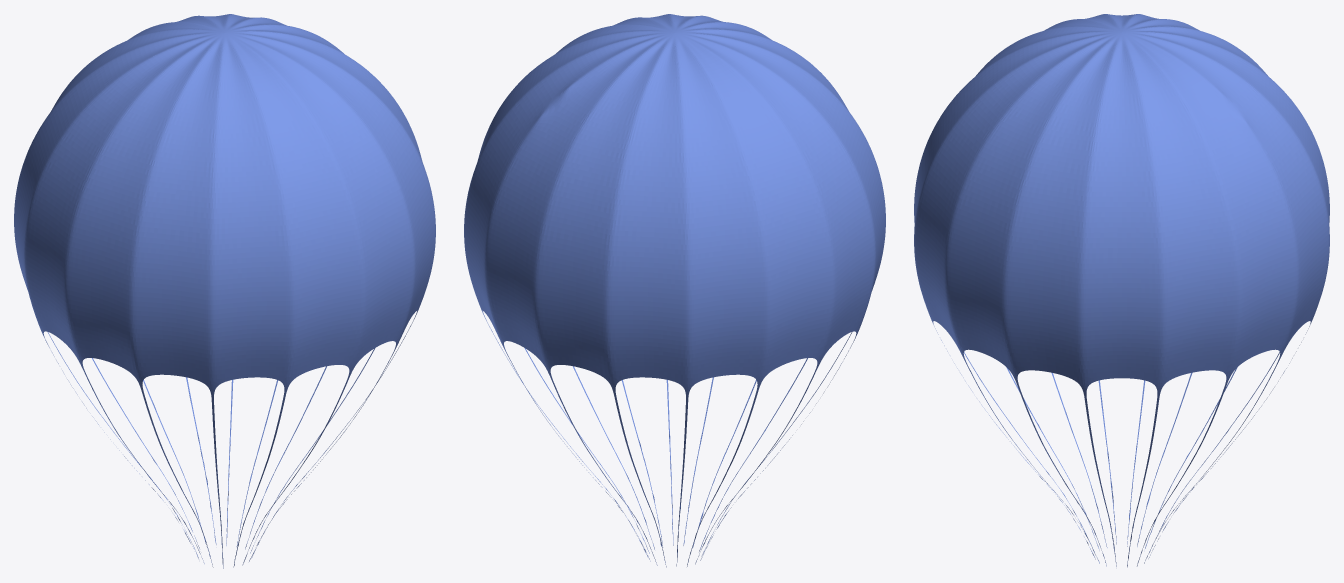
File: Parachute.fbx
3 views of the same model, side by side, from view 1: azimuth 30°, elevation 25°; view 2: azimuth 150°, elevation 25°; view 3: azimuth 270°, elevation 25° (orthographic).
Parts seen in each view (by area): view 1: Sphere; view 2: Sphere; view 3: Sphere.
Part boxes in pixels (<box>): Sphere: <box>14,14,435,568</box>; Sphere: <box>464,14,885,567</box>; Sphere: <box>914,14,1329,567</box>.
Bounding box in the file's own units: 200 × 278 × 200.
